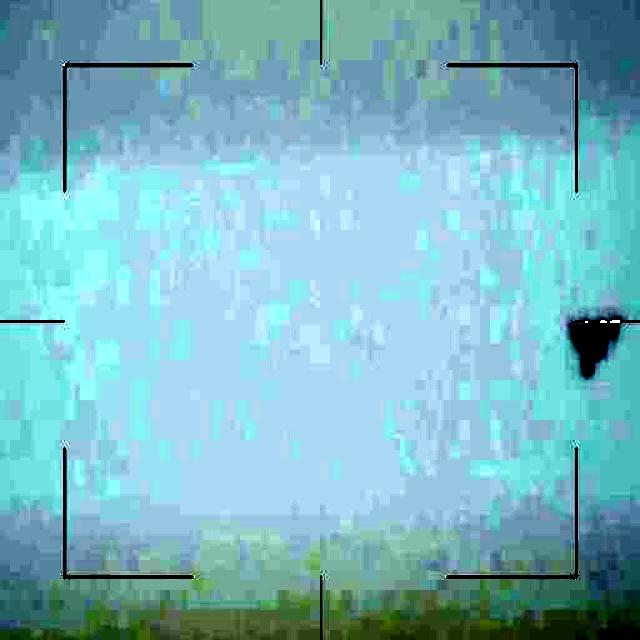bird: (562, 316, 630, 386)
